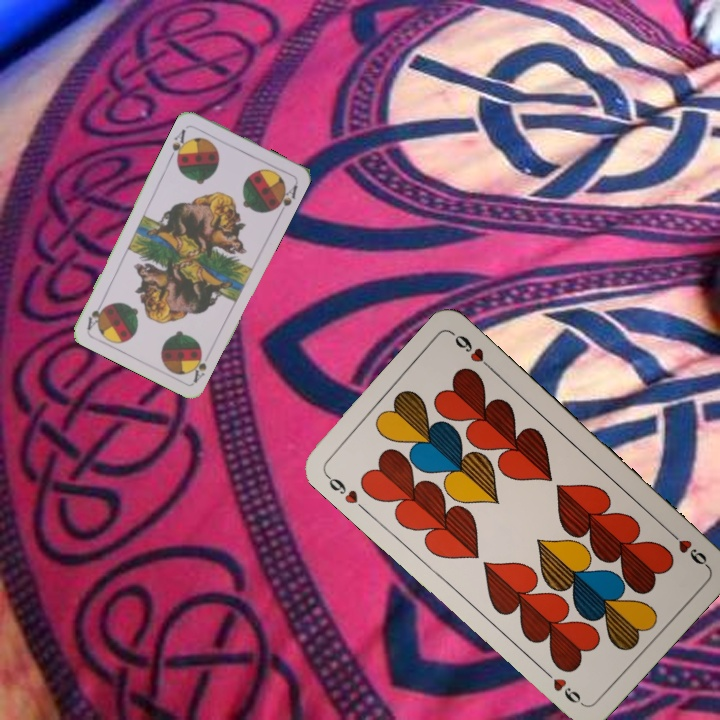H9: (321, 469, 369, 514), (663, 525, 710, 570)
SA: (166, 125, 191, 164), (188, 347, 209, 385)
